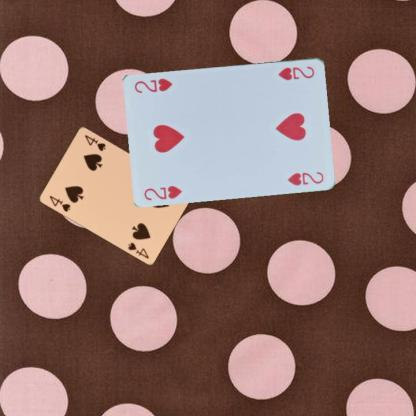2h: (142, 183, 184, 202), (276, 63, 316, 82)
4s: (47, 193, 72, 213)
